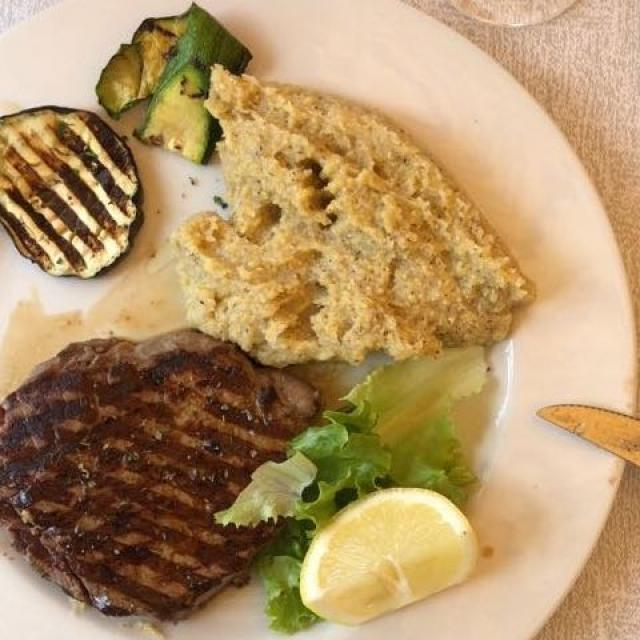beef: (7, 338, 334, 634)
eggplant: (2, 109, 154, 282)
polenta: (166, 67, 527, 373)
zucchini: (66, 24, 258, 150)
